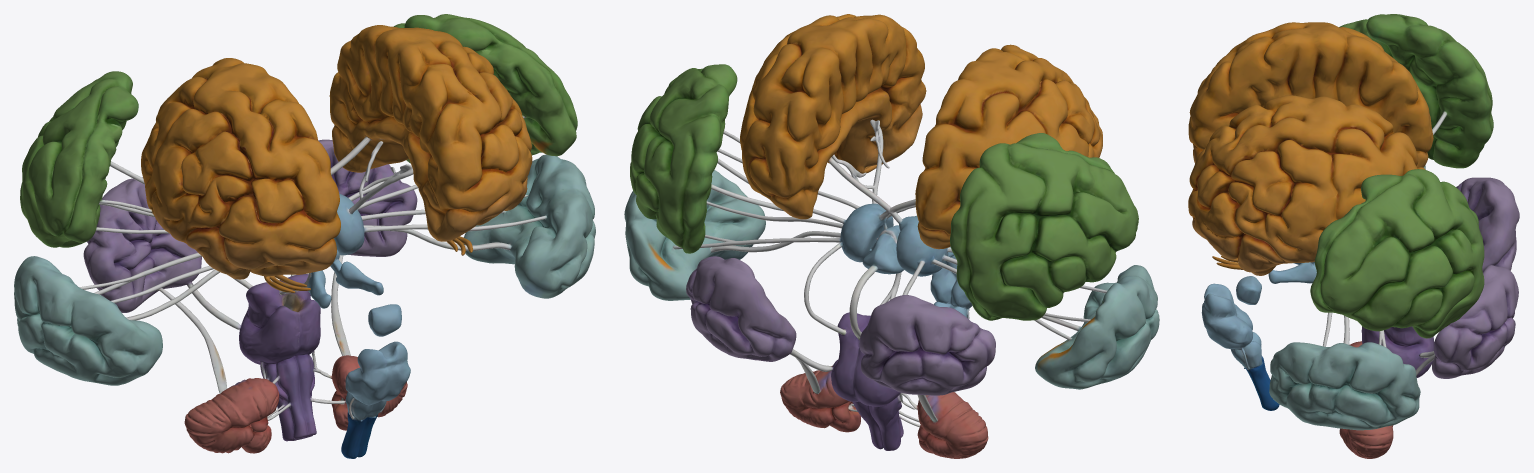
Rendered from brain-v5.glb.
The picture shows the model from 3 angles, left to right: view 1: azimuth 30°, elevation 25°; view 2: azimuth 150°, elevation 25°; view 3: azimuth 270°, elevation 25°; orthographic projection. The views are drawn at different scales.
Parts seen in each view (by area): view 1: tripo_node_988d0c25-8c15-41bf-b47e-90087bb8506c; view 2: tripo_node_988d0c25-8c15-41bf-b47e-90087bb8506c; view 3: tripo_node_988d0c25-8c15-41bf-b47e-90087bb8506c.
Part boxes in pixels (x1=…): tripo_node_988d0c25-8c15-41bf-b47e-90087bb8506c: x1=14, y1=14, x2=595, y2=458; tripo_node_988d0c25-8c15-41bf-b47e-90087bb8506c: x1=624, y1=14, x2=1159, y2=458; tripo_node_988d0c25-8c15-41bf-b47e-90087bb8506c: x1=1188, y1=14, x2=1519, y2=458.
Size of the model in its own units: 0.9999 by 0.713 by 0.5858.
Materials: 1 (1 with a texture image).
